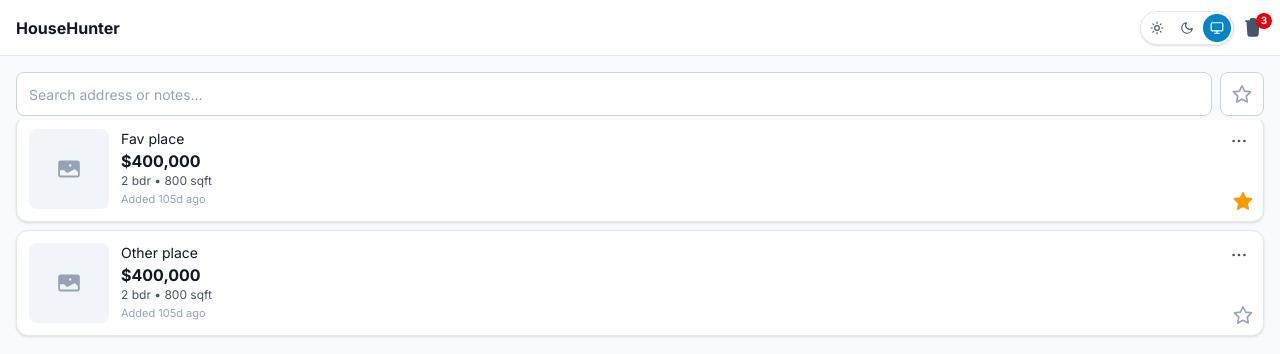
Test: /recent page › shows only favorites when the star toggle is on, and all listings when off
The width and height of the screenshot is (1280, 354).
Expected: the number of buttons with test id "listing-card-body" is 2, [17,117,1263,221]; [17,231,1263,335]
What coordinates should you click on to do the following:
click the button named "favorites only"
I would click on:
 (1242, 94)
Its box is [1220,72,1264,116].
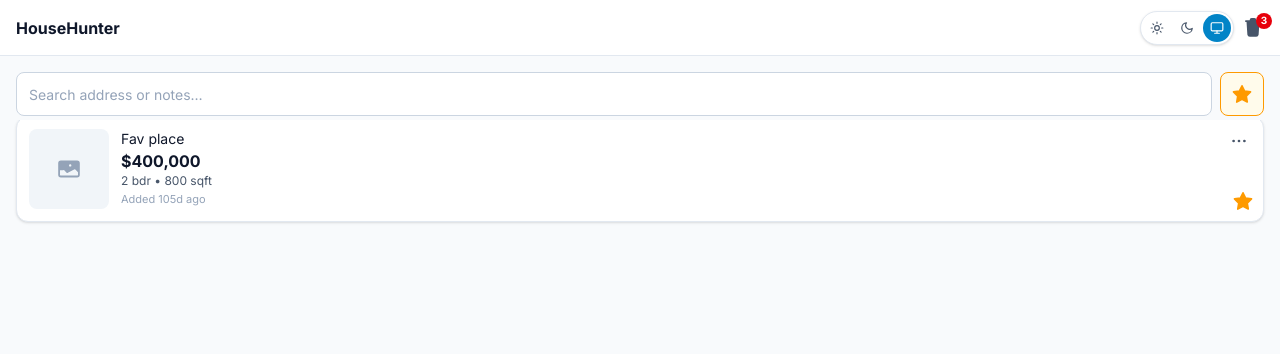
Expected: the text "Fav place" is shown, [121,130,184,147]
Result: the number of buttons with test id "listing-card-body" is 1 at [17,117,1263,221]
What coordinates should you click on to do the following:
click the button named "favorites only"
I would click on:
 (1242, 94)
Its box is [1220,72,1264,116].
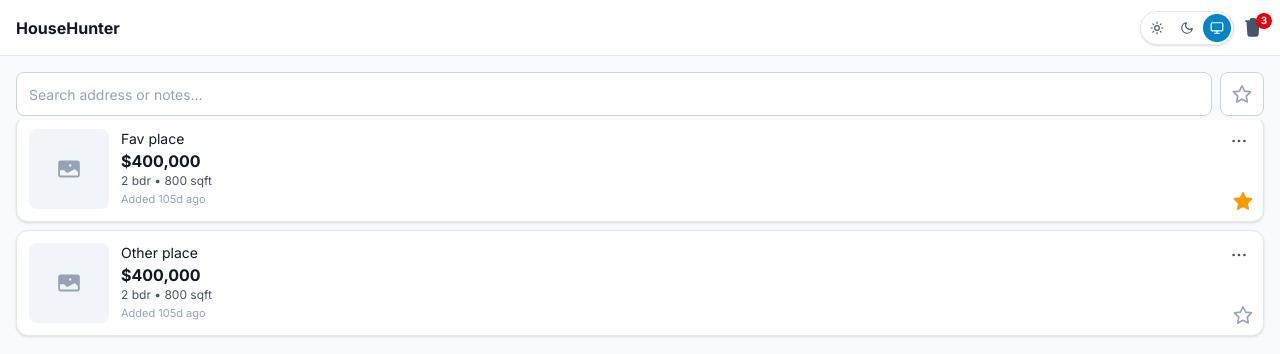
Result: the number of buttons with test id "listing-card-body" is 2 at [17,117,1263,221]; [17,231,1263,335]
